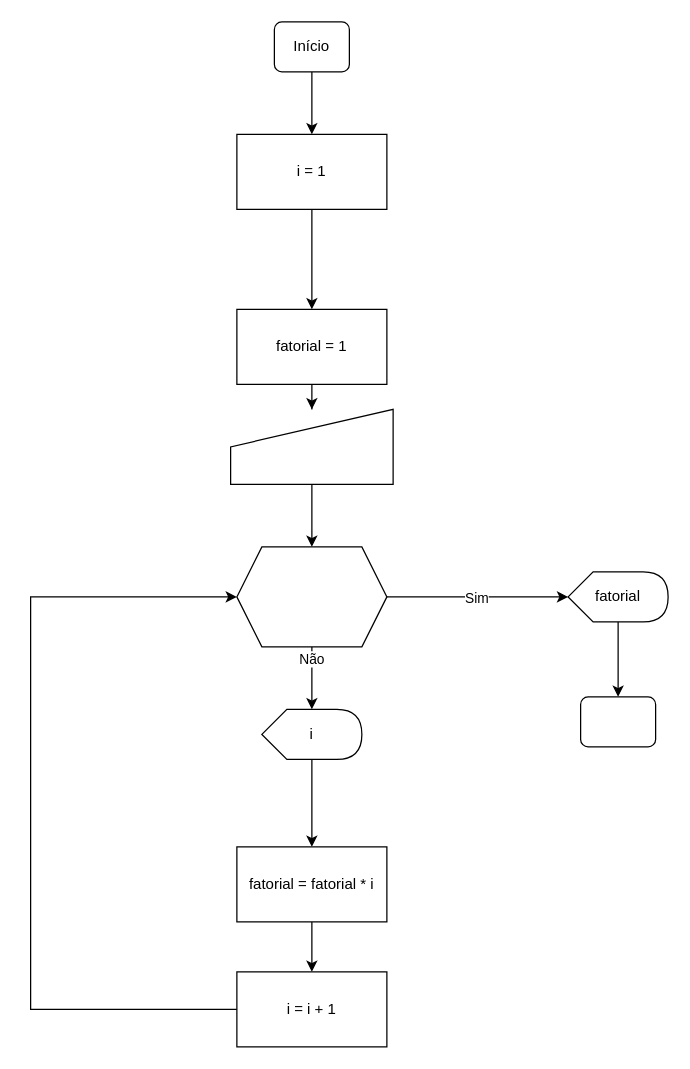
Some shapes in this 690 by 1069 pixel diagram are drawn without their labels. The shapes that lost their labels are listed below. From the top down, each one's centre as x and y in pixels, then its label:
At [311,446]: "Ler x".
At [311,596]: "i > x?".
At [617,721]: "Fim".
